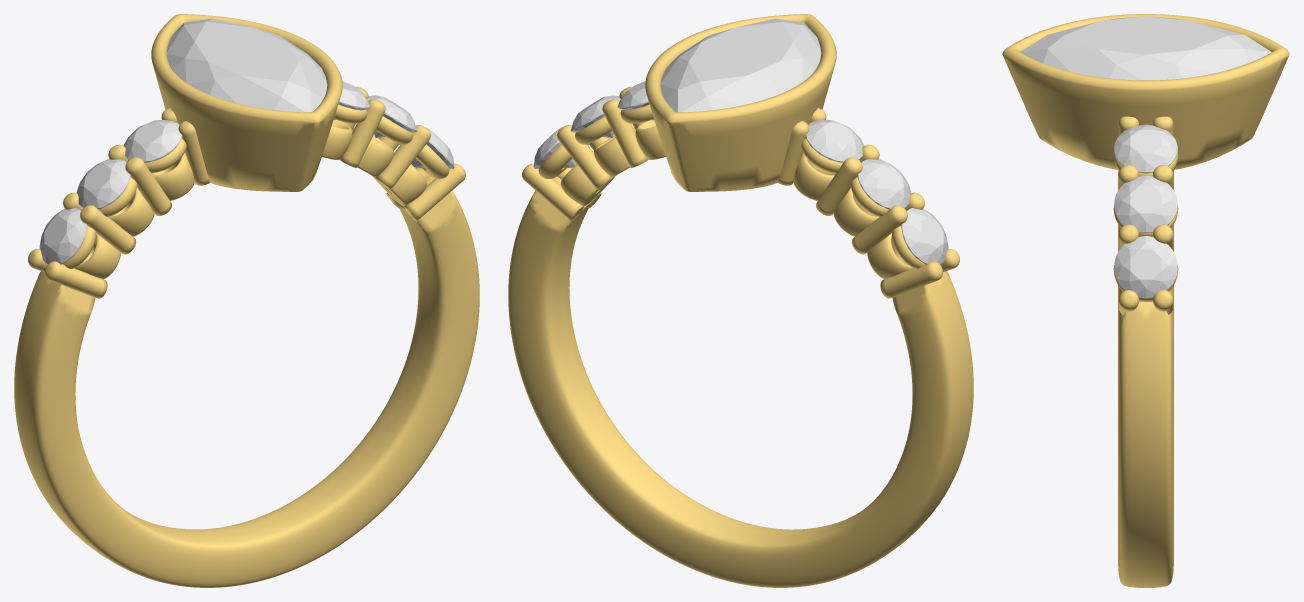
The model's file is diamond-marquise-yellowgold-bezelset-straightband-7stone.glb.
3 renders of one model, left to right at view 1: azimuth 30°, elevation 25°; view 2: azimuth 150°, elevation 25°; view 3: azimuth 270°, elevation 25°, orthographic.
Visible parts, largest first — view 1: metal.002, stone.001, dia.002, dia.015, dia.016, dia.018, dia.019; view 2: metal.002, stone.001, dia.002, dia.015, dia.016, dia.018, dia.019; view 3: metal.002, stone.001, dia.017, dia.018, dia.019.
Part boxes in pixels (x1,y1,x2,y2): metal.002: (14,14,479,587); stone.001: (166,18,327,112); dia.002: (39,208,86,264); dia.015: (76,159,130,209); dia.016: (123,120,182,162); dia.018: (367,95,417,137); dia.019: (333,81,370,120); metal.002: (508,14,973,587); stone.001: (660,18,821,112); dia.002: (901,208,948,264); dia.015: (857,159,911,209); dia.016: (805,120,864,162); dia.018: (570,95,620,137); dia.019: (617,81,654,120); metal.002: (1002,14,1289,587); stone.001: (1020,16,1271,80); dia.017: (1114,236,1177,298); dia.018: (1114,175,1177,232); dia.019: (1114,124,1177,173).
Size of the model in its own units: 20.5 by 22.94 by 11.31.
